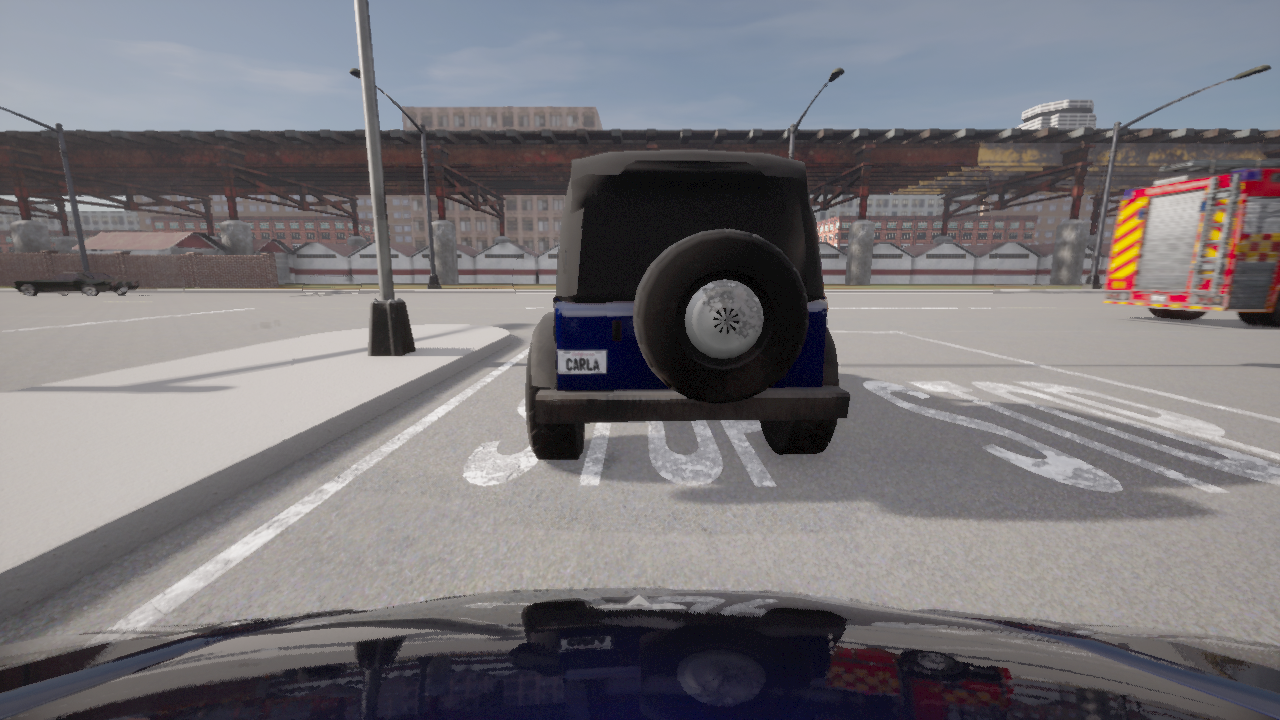cyclist: (0, 588, 1279, 719), (526, 149, 850, 459), (1102, 159, 1279, 328), (12, 272, 140, 296)
